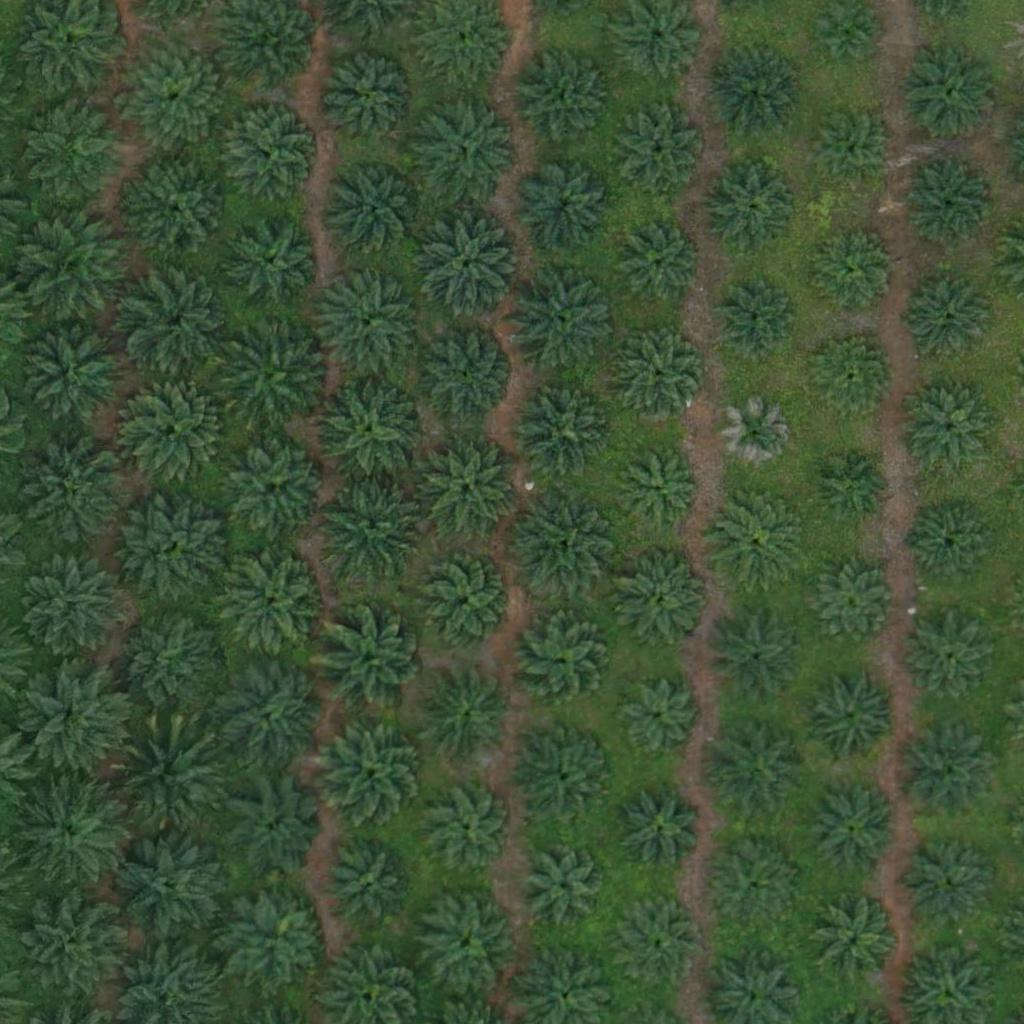Kelapa_Sawit: (119, 41, 232, 155), (123, 153, 236, 267), (220, 317, 333, 431), (312, 374, 425, 488), (320, 473, 433, 587), (18, 548, 131, 661), (507, 264, 620, 377), (314, 605, 427, 718), (316, 715, 429, 828), (115, 828, 228, 941), (20, 662, 133, 775), (11, 775, 124, 888), (17, 892, 130, 1005), (310, 267, 422, 381), (507, 489, 619, 603), (21, 211, 133, 324), (19, 319, 131, 432), (123, 268, 235, 381), (122, 492, 234, 605), (414, 208, 526, 321), (113, 608, 225, 721), (112, 723, 224, 836), (27, 443, 127, 544), (125, 379, 225, 480), (227, 436, 327, 537), (323, 52, 423, 153), (325, 158, 425, 259), (418, 96, 518, 197), (512, 48, 612, 149), (515, 156, 615, 257), (513, 380, 613, 481), (711, 489, 811, 590), (894, 723, 994, 824), (799, 554, 899, 655), (799, 664, 899, 765), (705, 604, 805, 705), (416, 664, 516, 765), (417, 892, 517, 993), (220, 551, 320, 652), (217, 663, 317, 764), (226, 779, 326, 880), (227, 889, 327, 990), (31, 103, 131, 203), (222, 102, 322, 202), (225, 213, 325, 313), (417, 324, 517, 424), (419, 441, 519, 541), (901, 44, 1001, 144), (708, 720, 808, 820), (613, 548, 713, 648), (512, 610, 612, 710), (516, 726, 616, 826), (416, 551, 516, 651), (617, 110, 705, 199), (807, 334, 895, 423), (909, 501, 997, 590), (808, 441, 896, 529), (711, 53, 799, 141), (708, 166, 796, 254), (810, 232, 898, 320), (904, 615, 992, 703), (903, 840, 991, 928), (616, 677, 704, 765), (325, 841, 413, 929), (614, 224, 701, 312), (617, 334, 704, 422), (906, 161, 993, 249), (905, 277, 992, 365), (906, 387, 993, 475), (808, 788, 895, 876), (811, 899, 898, 987), (711, 848, 798, 936), (523, 840, 610, 928), (425, 784, 512, 872), (623, 451, 698, 527), (625, 794, 700, 870), (623, 905, 698, 981), (813, 116, 888, 191), (717, 284, 792, 359), (719, 398, 794, 473)
